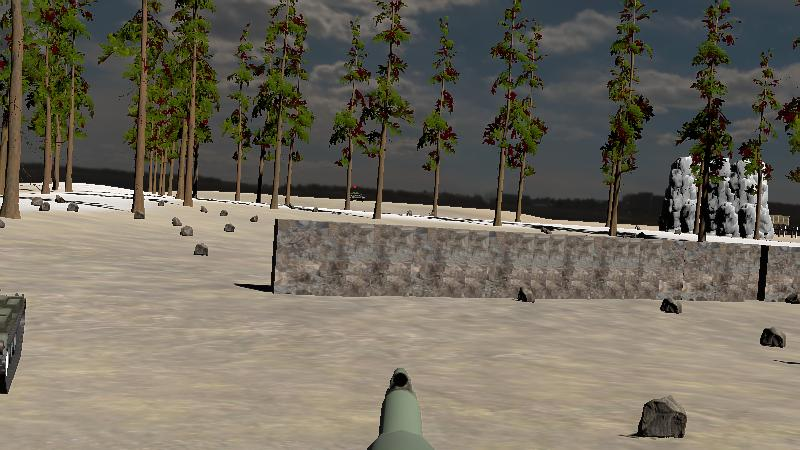Tank: (0, 235, 30, 398), (344, 189, 368, 203)
